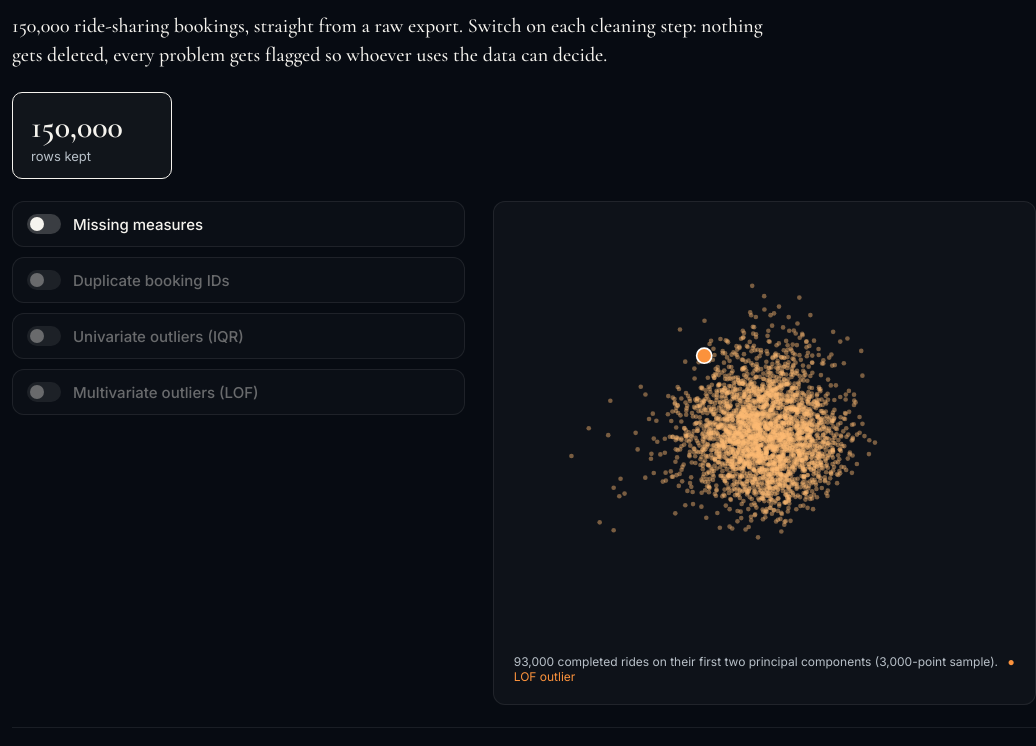
parada Ride-sharing › al activar cada paso muestra lo que marca, sin borrar filas
Expected: the text with test id "rows-kept" reads "150,000", [31,107,123,146]
Click the switch labelled "Missing measures" at (44, 224), box [27,214,450,234]
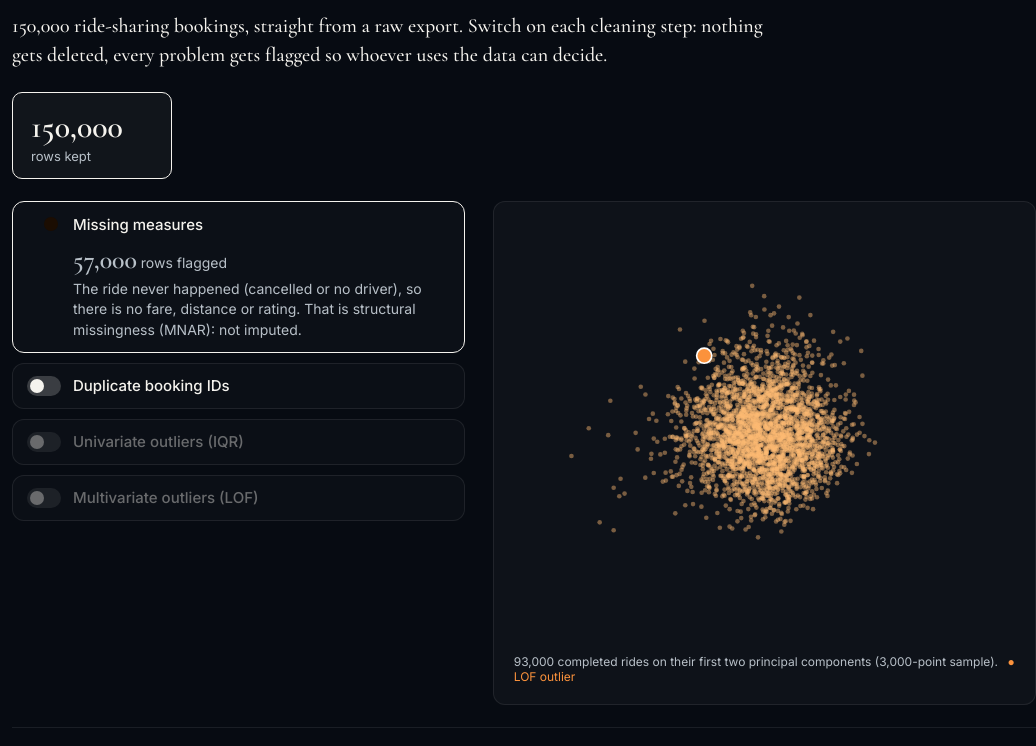
Expected: the text with test id "flag-nulos" reads "57,000", [73,244,137,275]
Click the switch labelled "Duplicate booking IDs" at (44, 386), box [27,376,450,396]
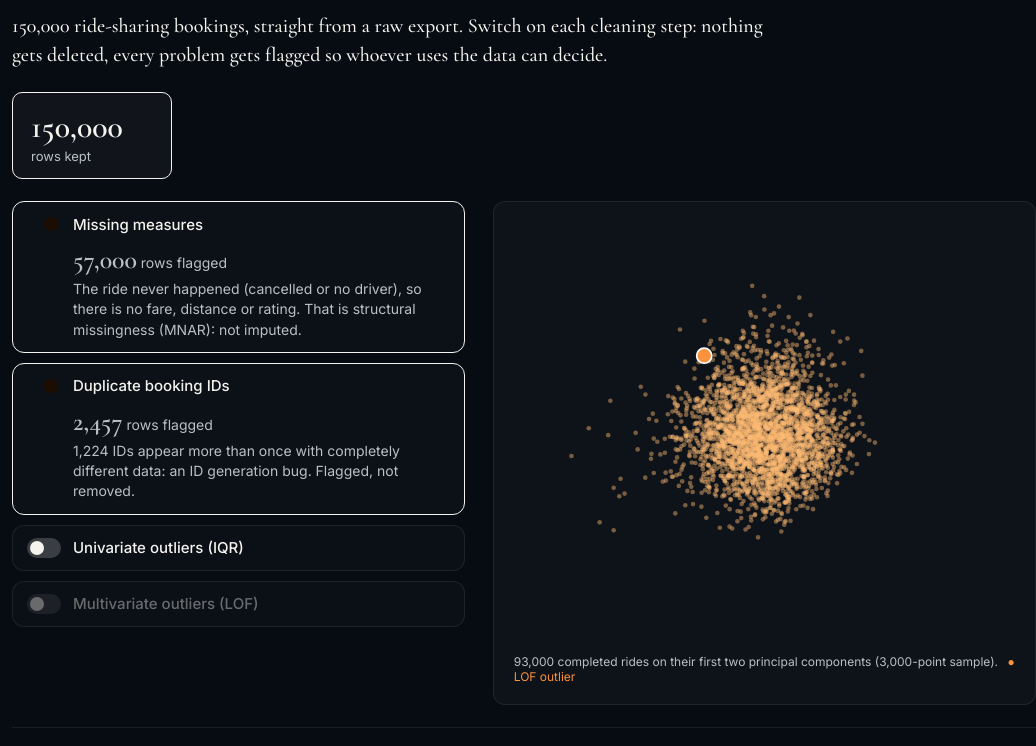
Expected: the text with test id "flag-duplicados" reads "2,457", [73,406,123,437]
Click the switch labelled "Univariate outliers (IQR)" at (238, 548), box [27,538,450,558]
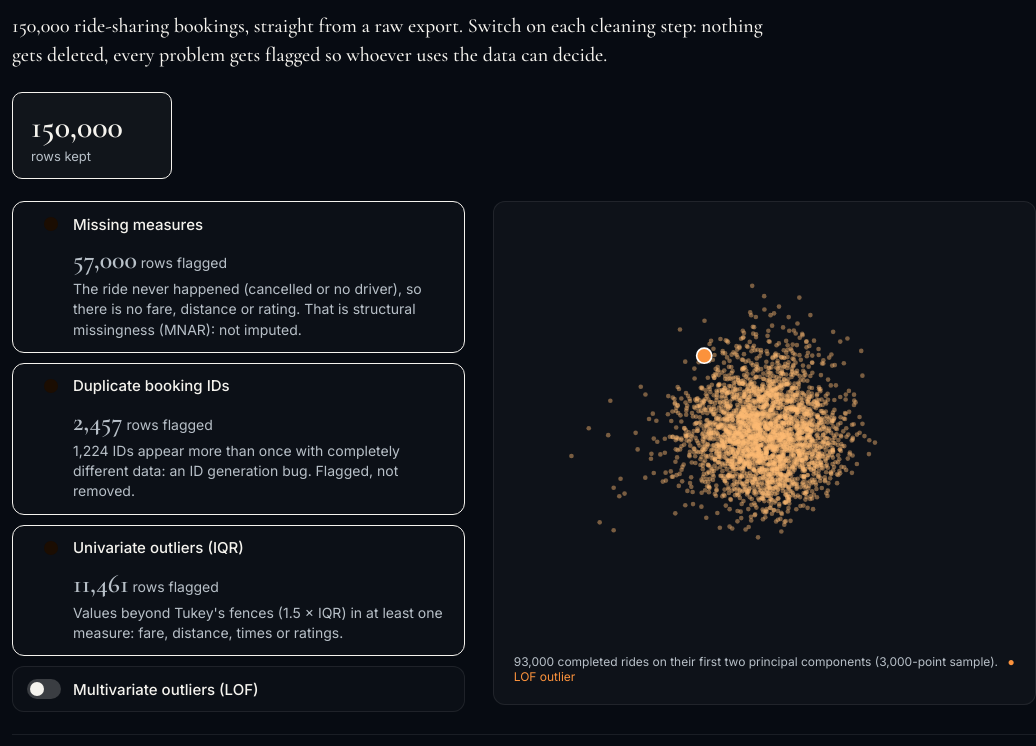
Click the switch labelled "Multivariate outliers (LOF)" at (238, 689), box [27,679,450,699]
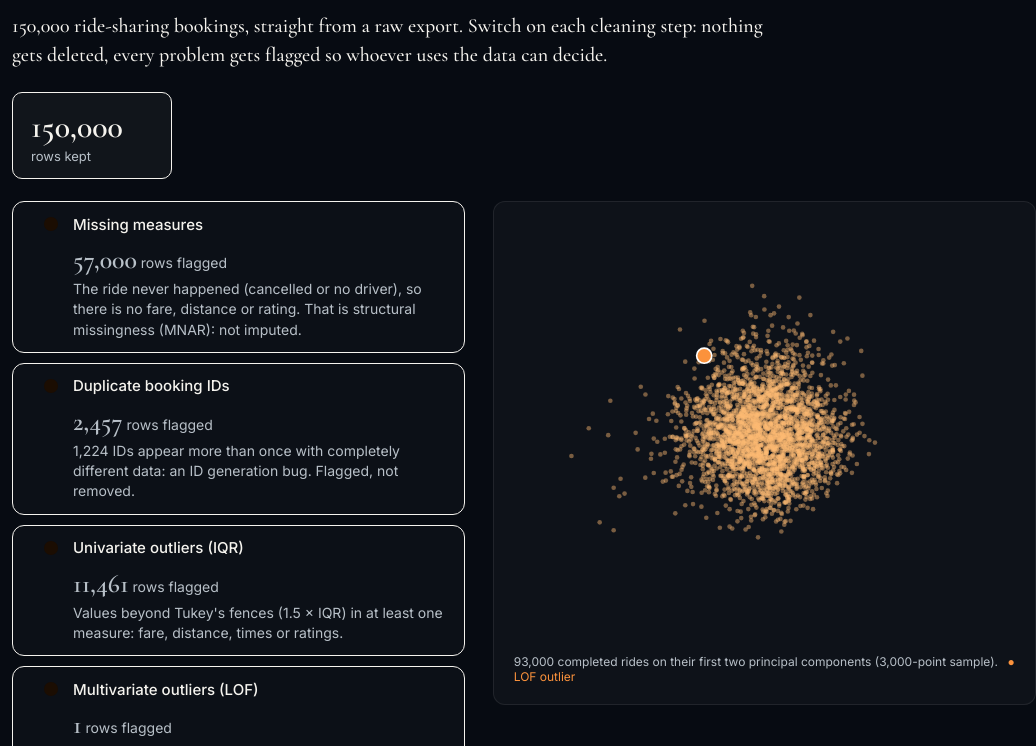
Expected: the text with test id "rows-kept" reads "150,000", [31,107,123,146]
Expected: the text with test id "flag-outliers_lof" reads "1", [73,709,82,740]
